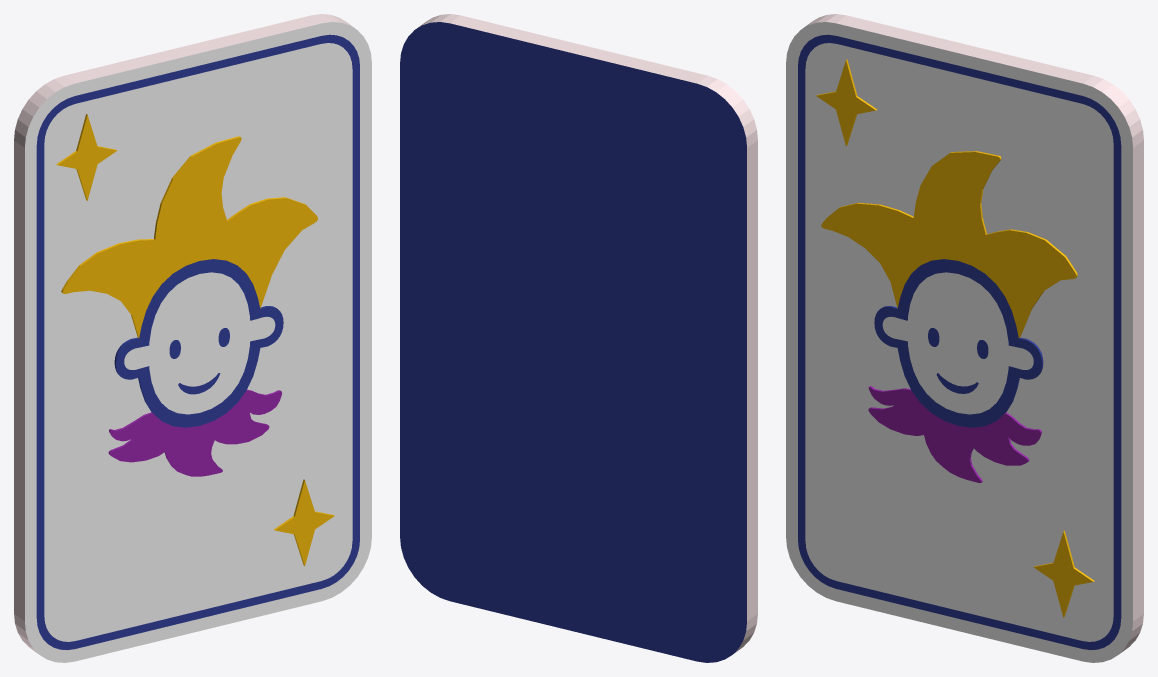
Rendered from joker.gltf.
The picture shows the model from 3 angles, left to right: view 1: azimuth 30°, elevation 25°; view 2: azimuth 150°, elevation 25°; view 3: azimuth 330°, elevation 25°; orthographic projection.
Parts seen in each view (by area): view 1: Plane.316; view 2: Plane.316; view 3: Plane.316.
Boxes of the visible parts, x1=… form: Plane.316: x1=14, y1=14, x2=371, y2=662; Plane.316: x1=400, y1=14, x2=757, y2=662; Plane.316: x1=786, y1=14, x2=1143, y2=662.
Bounding box in the file's own units: 1.49 × 2.36 × 0.0905.
1 material, 1 textured.
